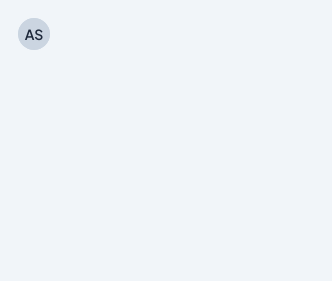
UserMenuDropdown › mostra Meus grupos, Perfil e Sair nesta ordem
The image size is (332, 281).
Click the button with aria-label "AS, menu da conta": (34, 34) [12,12,56,56]
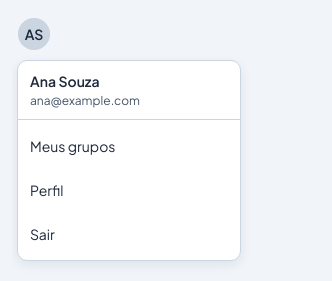
Check: the menu items read "Meus grupos", "Perfil", "Sair", in this order, box [30,137,116,155]; [30,181,63,199]; [30,225,55,243]
